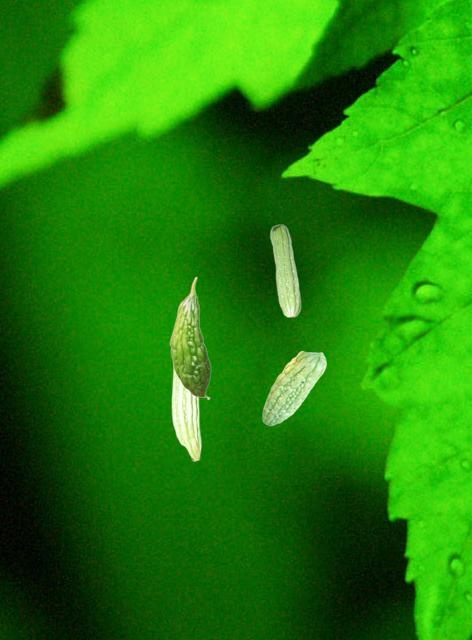ampalaya: (169, 276, 211, 400), (262, 350, 327, 426), (269, 224, 301, 318), (171, 364, 201, 462)
